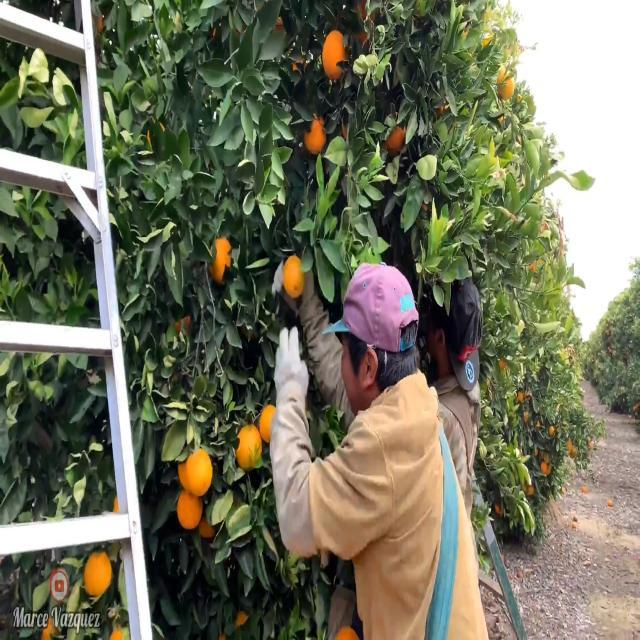Jeruk Sudah Matang: (204, 236, 236, 281), (174, 488, 204, 534), (235, 418, 262, 469), (85, 548, 112, 598), (185, 450, 216, 492), (322, 30, 347, 80), (300, 115, 330, 154), (283, 252, 304, 298), (198, 514, 218, 554), (496, 64, 516, 100), (386, 124, 404, 156)
